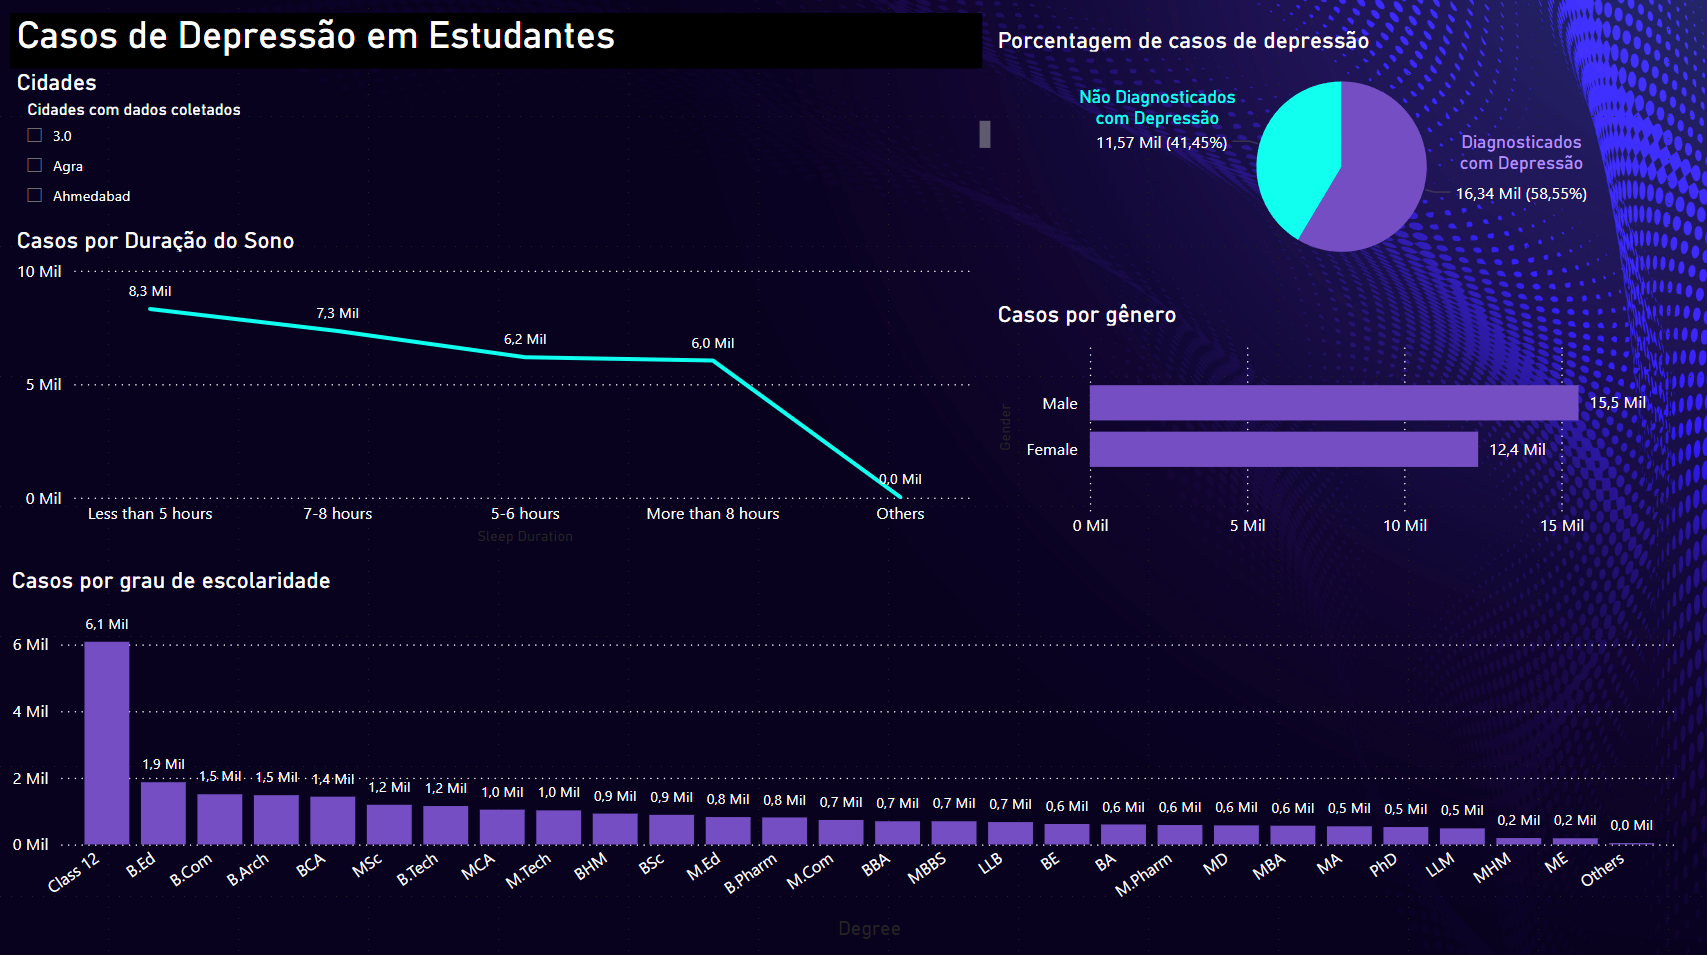

What the dashboard file says about the page in this screenshot:
{"tool":"powerbi","page":{"name":"Página 1","canvas":[1280,720],"ordinal":0},"visuals":[{"type":"pieChart","title":"Porcentagem de casos de depressão","fields":{"Y":["CountNonNull(Student Depression Dataset.Depression)"],"Category":["Student Depression Dataset.Depression"]},"box":[748.3,29.5,517.7,188.7],"z":0},{"type":"clusteredBarChart","title":"Casos por gênero","fields":{"Category":["Student Depression Dataset.Gender"],"Y":["CountNonNull(Student Depression Dataset.Depression)"]},"box":[748.3,232.2,517.7,184.6],"z":1000},{"type":"slicer","title":"Cidades","fields":{"Values":["Student Depression Dataset.City"]},"box":[23.8,60.7,728.6,106.7],"z":2000},{"type":"clusteredColumnChart","title":"Casos por grau de escolaridade","fields":{"Category":["Student Depression Dataset.Degree"],"Y":["CountNonNull(Student Depression Dataset.Depression)"]},"box":[19.7,428.3,1239.8,280.6],"z":3000},{"type":"lineChart","title":"Casos por Duração do Sono","fields":{"Category":["Student Depression Dataset.Sleep Duration"],"Y":["CountNonNull(Student Depression Dataset.Depression)"]},"box":[23.8,177.2,717.9,239.6],"z":4000},{"type":"textbox","title":"Casos de Depressão em Estudantes","box":[23.6,19.9,717.8,40.6],"z":4001},{"type":"textbox","title":"Diagnosticados com Depressão","box":[1087.8,107.8,104.1,31.8],"z":4002},{"type":"textbox","title":"Não Diagnosticados com Depressão","box":[807.1,74.6,127.8,33.2],"z":4004}]}

Visuals, with their boxes in screenshot pixels (x1, y1, x2, y2), scaled from the page's 1280x720 canvas onto the 1707x955 screenshot:
"Porcentagem de casos de depressão" pieChart: region(998, 39, 1688, 289)
"Casos por gênero" clusteredBarChart: region(998, 308, 1688, 553)
"Cidades" slicer: region(32, 81, 1003, 222)
"Casos por grau de escolaridade" clusteredColumnChart: region(26, 568, 1680, 940)
"Casos por Duração do Sono" lineChart: region(32, 235, 989, 553)
"Casos de Depressão em Estudantes" textbox: region(31, 26, 989, 80)
"Diagnosticados com Depressão" textbox: region(1451, 143, 1590, 185)
"Não Diagnosticados com Depressão" textbox: region(1076, 99, 1247, 143)
